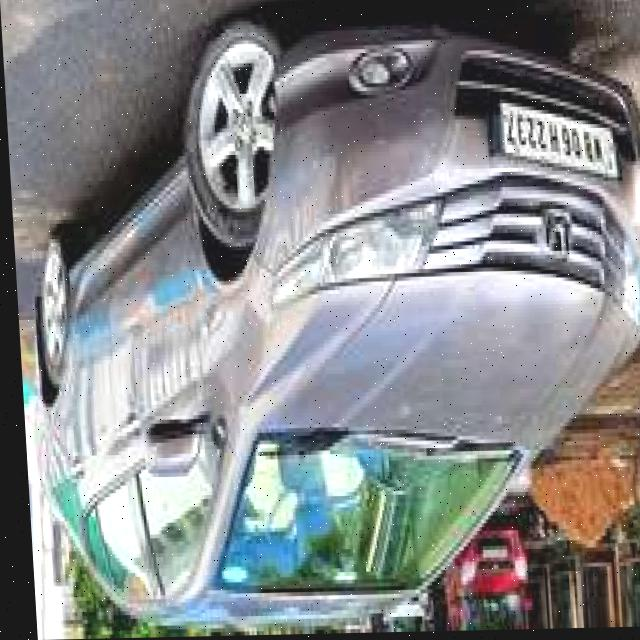plate: (487, 97, 615, 186)
